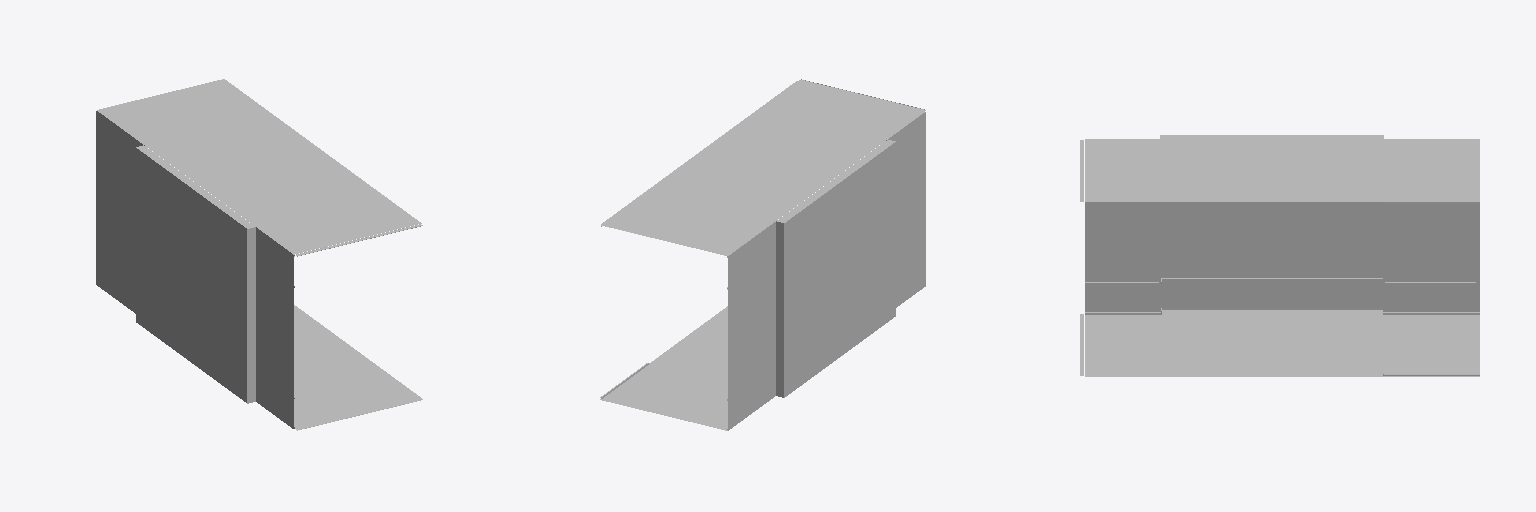
The model's file is wall_03_lft.obj.
3 renders of one model, left to right at view 1: azimuth 30°, elevation 25°; view 2: azimuth 150°, elevation 25°; view 3: azimuth 270°, elevation 25°, orthographic.
Visible parts, largest first — view 1: wall_03_lft; view 2: wall_03_lft; view 3: wall_03_lft.
Boxes of the visible parts, x1=… form: wall_03_lft: x1=96, y1=79, x2=422, y2=430; wall_03_lft: x1=600, y1=79, x2=925, y2=430; wall_03_lft: x1=1080, y1=135, x2=1479, y2=376.
Size of the model in its own units: 195 by 238 by 493.